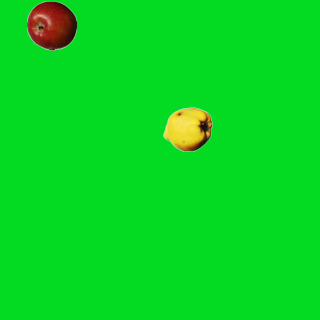Apple Braeburn: (26, 0, 76, 50)
Quince: (162, 104, 212, 154)
